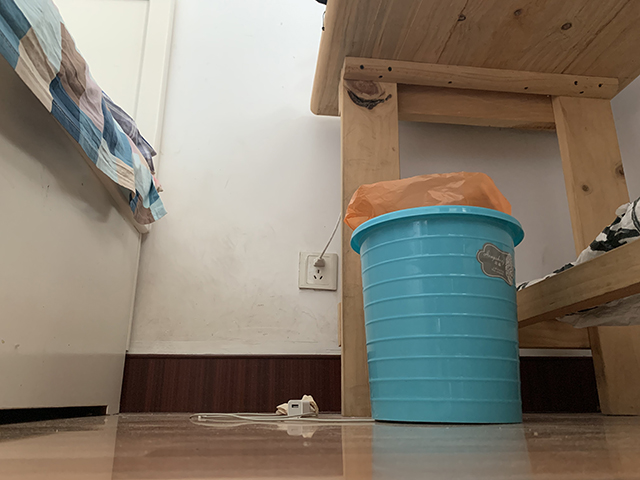table: (308, 1, 640, 419)
trashcan: (349, 204, 529, 426)
wire: (189, 398, 376, 423)
